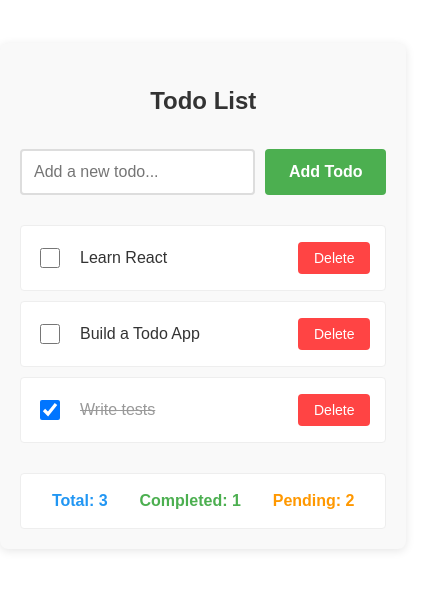
it: TodoList Component › submits form when Enter key is pressed
Type "Enter Todo" into the field with test id "todo-input" at (138, 172), box 20,149 -> 255,195
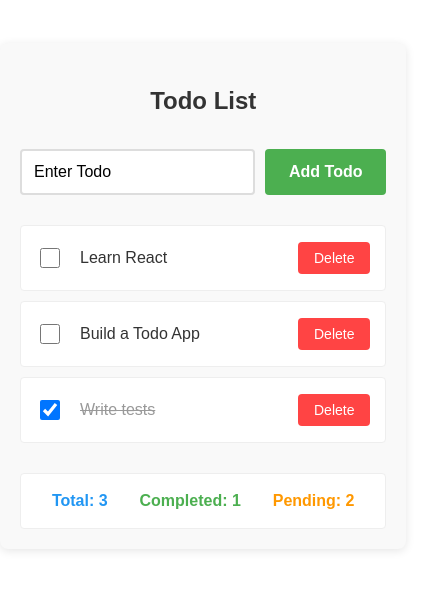
Submit the form with test id "todo-form", box 20,149 -> 386,195
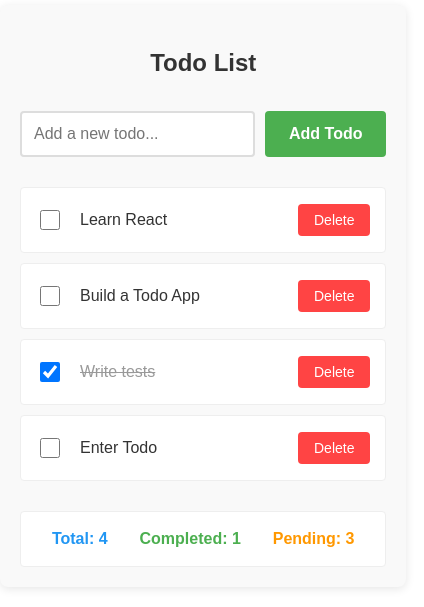
Result: the text "Enter Todo" is shown at 80,439 -> 157,456
